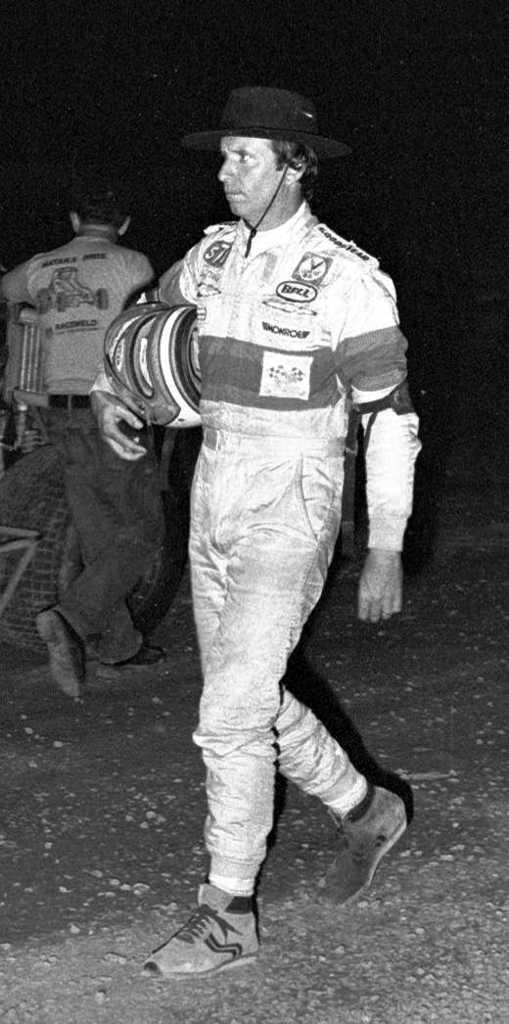Hat: (184, 90, 352, 254)
